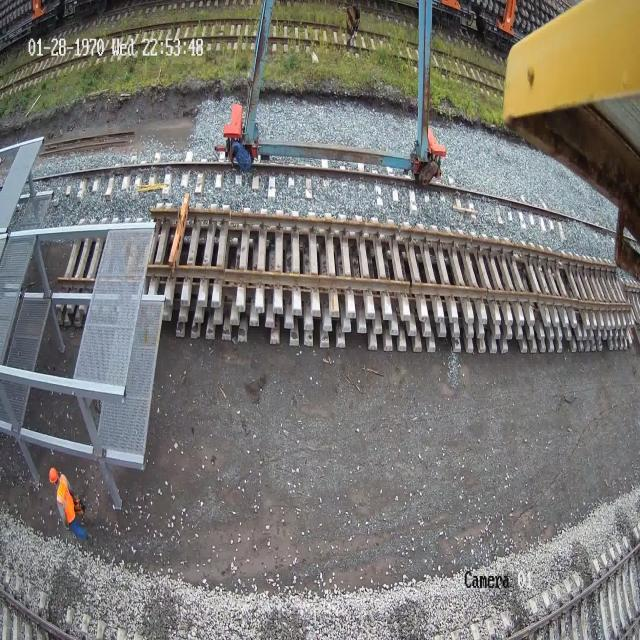Helmet: (49, 467, 58, 484)
Person: (48, 466, 88, 540)
